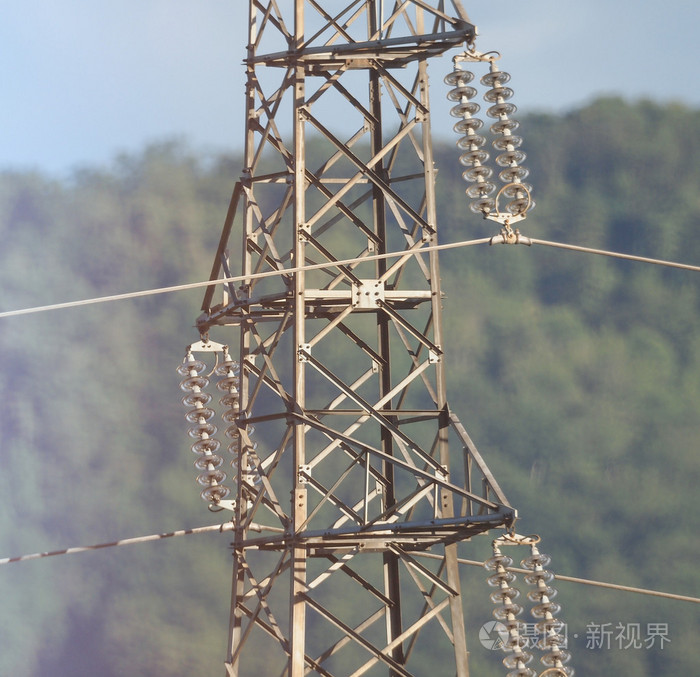insulator: (482, 68, 534, 213), (442, 68, 492, 210), (177, 357, 227, 498), (522, 551, 572, 675), (484, 555, 534, 676), (216, 357, 248, 477)
